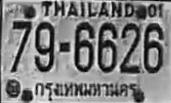2: (120, 22, 140, 72)
6: (143, 22, 163, 73), (74, 21, 94, 71), (97, 22, 117, 72)
7: (10, 21, 32, 72)
9: (34, 21, 54, 71)
BKK: (33, 79, 138, 99)
